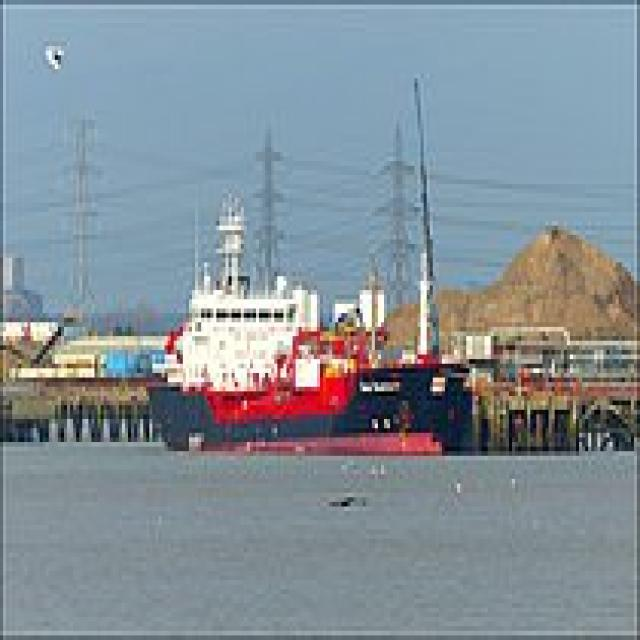Tanker: (143, 188, 470, 446)
